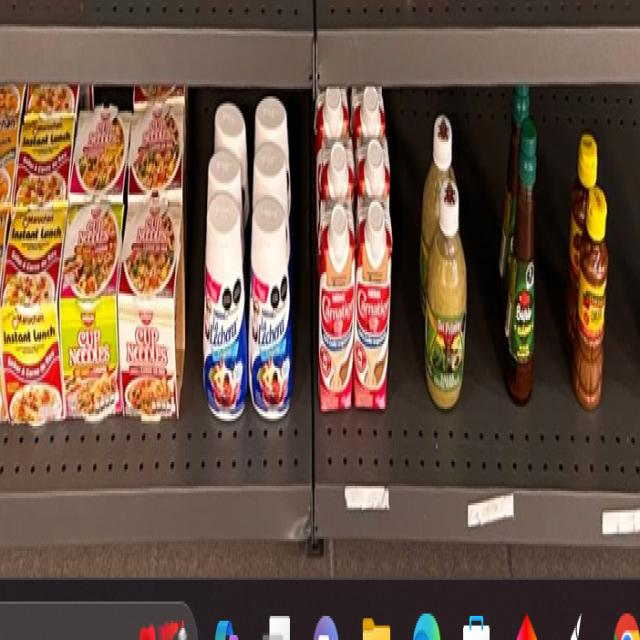botaneraChilito: (578, 189, 606, 409)
delPrimoSalsa: (422, 176, 465, 412)
maruchanRes: (1, 203, 60, 420)
nestleCarnation: (353, 205, 388, 407), (318, 212, 350, 404)
nestleLechera: (205, 191, 245, 408), (250, 210, 288, 410)
nissinCamaron: (63, 205, 119, 409)
nissinRes: (125, 198, 179, 413)
salsaBufalo: (505, 147, 539, 406)
